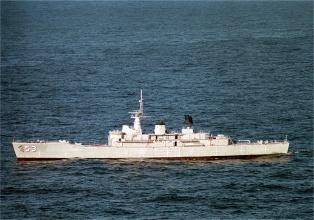warship: (10, 92, 300, 164)
